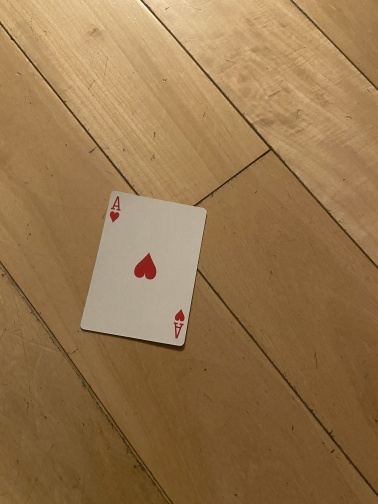ace: (79, 190, 209, 349)
